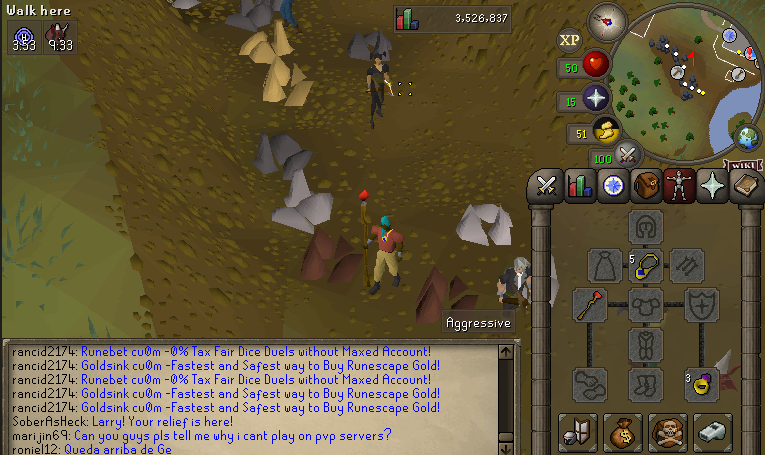depleted: (256, 124, 315, 181), (345, 19, 400, 71), (218, 1, 277, 33)
iron: (293, 223, 368, 288), (412, 262, 482, 329)
